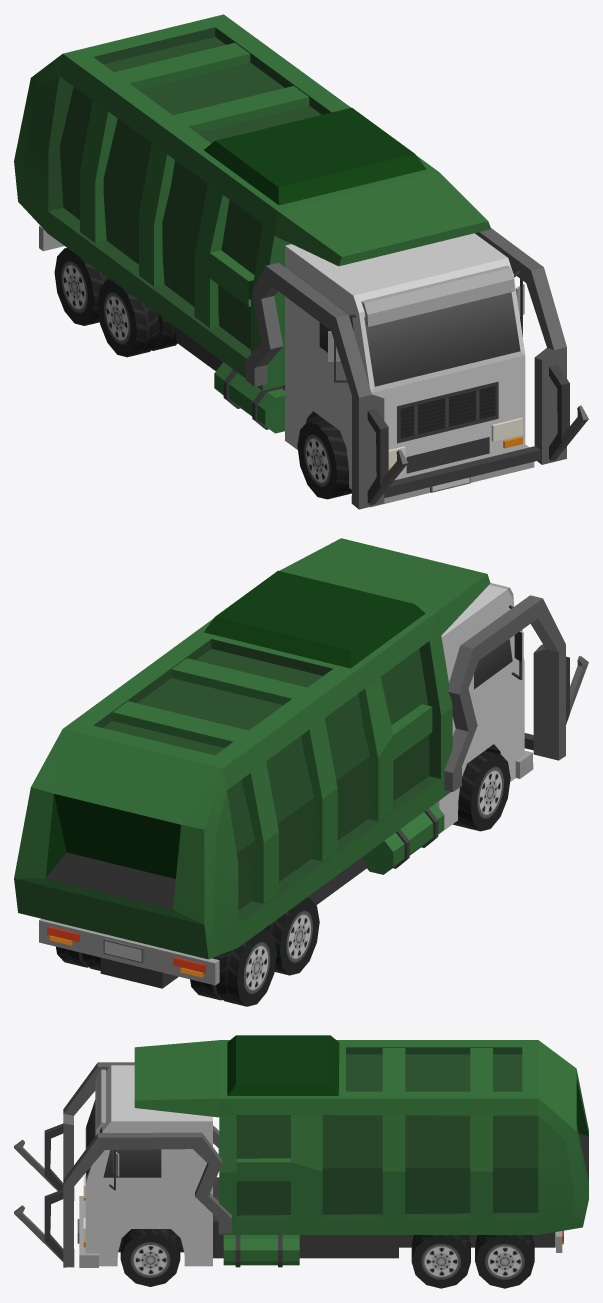
File: GarbageTruck.fbx
3 renders of one model, top to bottom at view 1: azimuth 30°, elevation 25°; view 2: azimuth 150°, elevation 25°; view 3: azimuth 270°, elevation 25°, orthographic. The views are drawn at different scales.
Parts seen in each view (by area): view 1: GarbageTruck, GarbageFork, TireBRX, TireFR, TireBRY; view 2: GarbageTruck, GarbageFork, TireBRY, TireFR, TireBRX, TireBLY; view 3: GarbageTruck, GarbageFork, TireFL, TireBLX, TireBLY.
Part boxes in pixels (x1,y1,x2,y2): GarbageTruck: (14,14,534,507); GarbageFork: (245,228,588,509); TireBRX: (97,279,177,357); TireFR: (297,418,351,499); TireBRY: (54,248,109,325); GarbageTruck: (14,538,533,988); GarbageFork: (444,595,588,791); TireBRY: (190,928,276,1006); TireFR: (453,750,510,831); TireBRX: (265,897,319,975); TireBLY: (56,946,100,970); GarbageTruck: (77,1035,588,1267); GarbageFork: (14,1062,231,1267); TireFL: (120,1229,180,1286); TireBLX: (411,1235,470,1288); TireBLY: (475,1235,534,1288).
Bounding box in the file's own units: 255 × 308 × 822.
